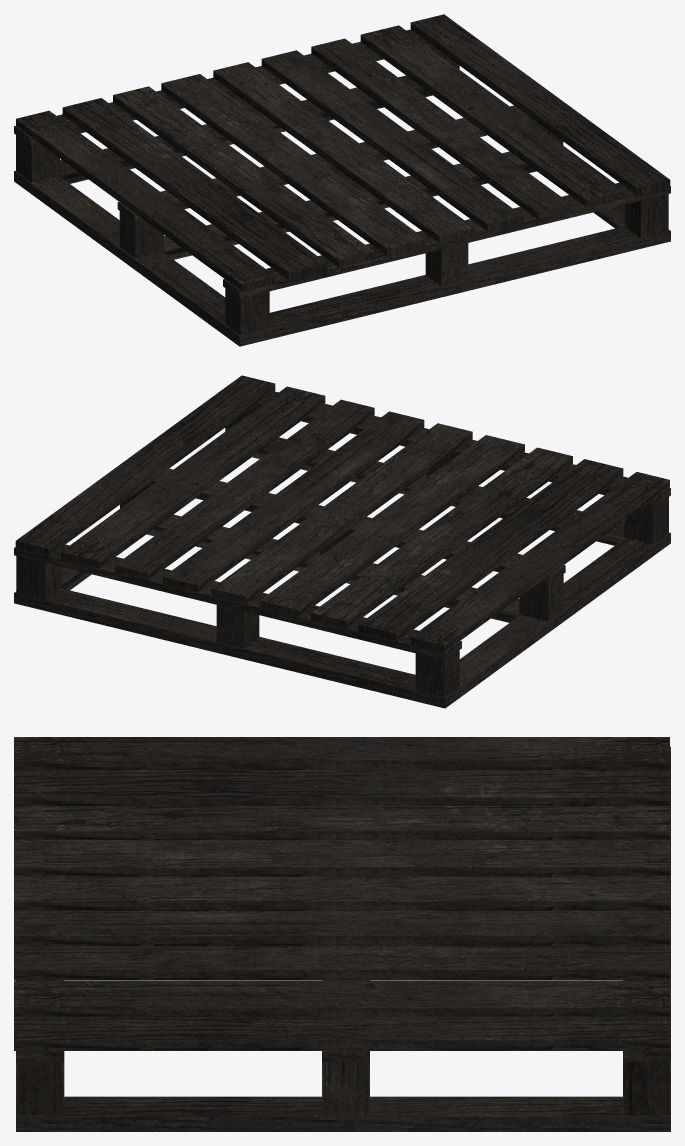
Rendered from wood_pallet_1.glb.
3 renders of one model, top to bottom at view 1: azimuth 30°, elevation 25°; view 2: azimuth 150°, elevation 25°; view 3: azimuth 270°, elevation 25°, orthographic. The views are drawn at different scales.
Parts seen in each view (by area): view 1: wood_pallet_1; view 2: wood_pallet_1; view 3: wood_pallet_1.
Boxes of the visible parts, x1,y1,x2,y2 form: wood_pallet_1: (14, 14, 670, 346); wood_pallet_1: (14, 375, 670, 708); wood_pallet_1: (14, 737, 670, 1131).
Bounding box in the file's own units: 1.44 × 0.1995 × 1.31.
Materials: 1 (1 with a texture image).
